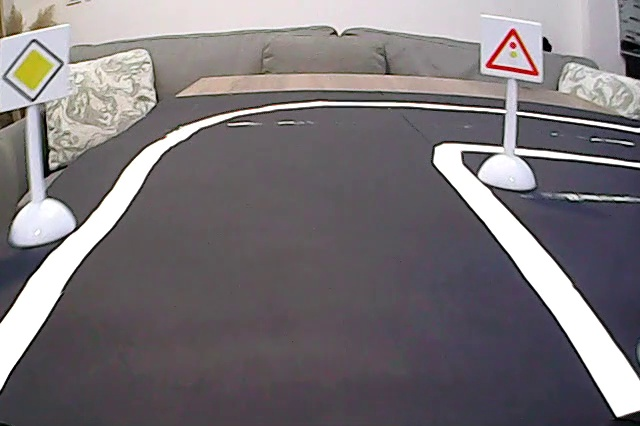red light: (483, 18, 542, 80)
